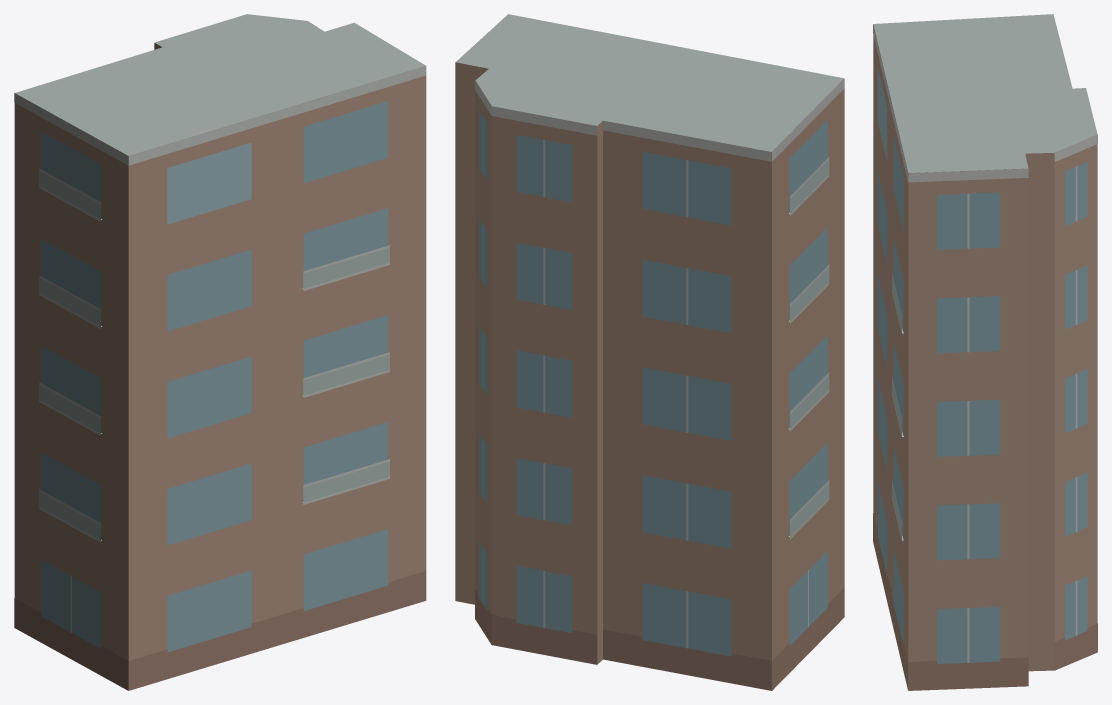
Rendered from survey-upis-32474771.glb.
3 views of the same model, side by side, from view 1: azimuth 30°, elevation 25°; view 2: azimuth 150°, elevation 25°; view 3: azimuth 270°, elevation 25° (orthographic). The views are drawn at different scales.
Visible parts, largest first — view 1: survey-upis-32474771.tmp; view 2: survey-upis-32474771.tmp; view 3: survey-upis-32474771.tmp.
Boxes of the visible parts, left/top/right/bottom form: survey-upis-32474771.tmp: left=14, top=14, right=426, bottom=690; survey-upis-32474771.tmp: left=455, top=14, right=844, bottom=690; survey-upis-32474771.tmp: left=873, top=14, right=1097, bottom=690.
Bounding box in the file's own units: 8.91 × 13.5 × 5.31.
